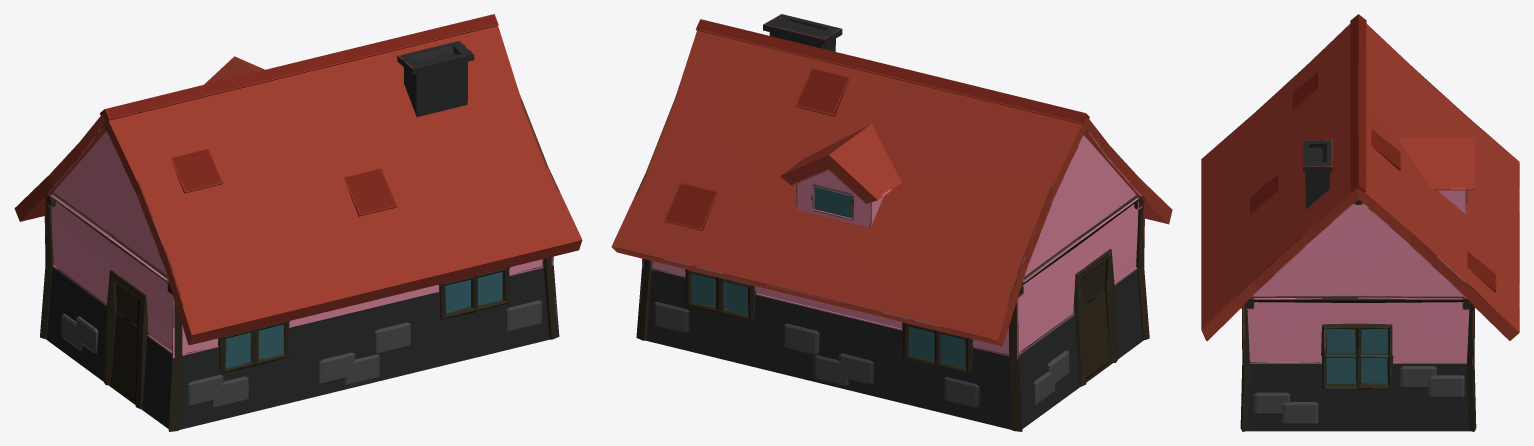
Rendered from House_3.fbx.
3 views of the same model, side by side, from view 1: azimuth 30°, elevation 25°; view 2: azimuth 150°, elevation 25°; view 3: azimuth 270°, elevation 25° (orthographic). The views are drawn at different scales.
Parts seen in each view (by area): view 1: EvRotten.002; view 2: EvRotten.002; view 3: EvRotten.002.
Part boxes in pixels (x1,y1,x2,y2): EvRotten.002: (14,14,582,431); EvRotten.002: (611,14,1172,431); EvRotten.002: (1201,14,1519,431).
Size of the model in its own units: 356 by 240 by 280.
Materials: 1 (1 with a texture image).
